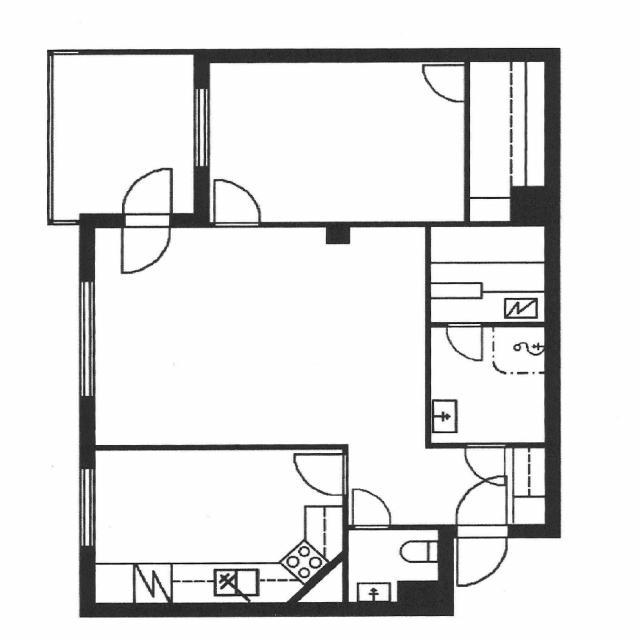door: (458, 524, 508, 584), (458, 478, 508, 538), (123, 213, 172, 272), (123, 168, 172, 227), (214, 180, 260, 227), (297, 454, 349, 495), (465, 442, 505, 484), (425, 65, 470, 101), (352, 490, 390, 530), (447, 322, 483, 359)
